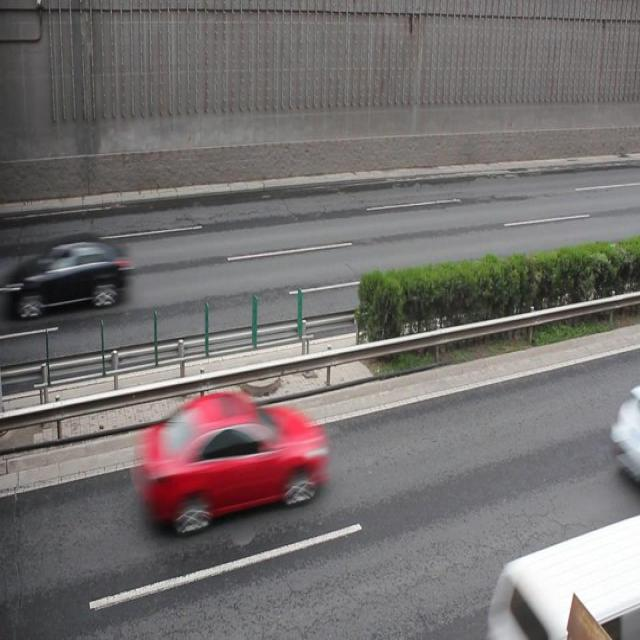car: (136, 388, 326, 534), (20, 232, 131, 319)
truck: (484, 520, 640, 640)
